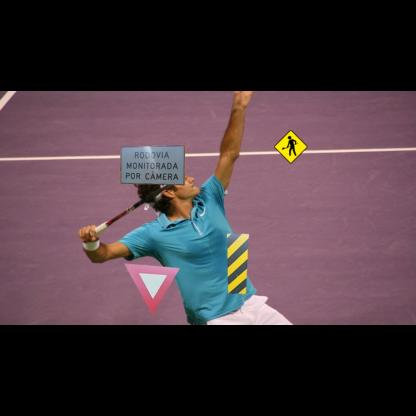A-24: (274, 129, 308, 164)
I-E: (120, 145, 185, 186)
O-MP: (227, 233, 249, 294)
R-2: (124, 263, 180, 316)
